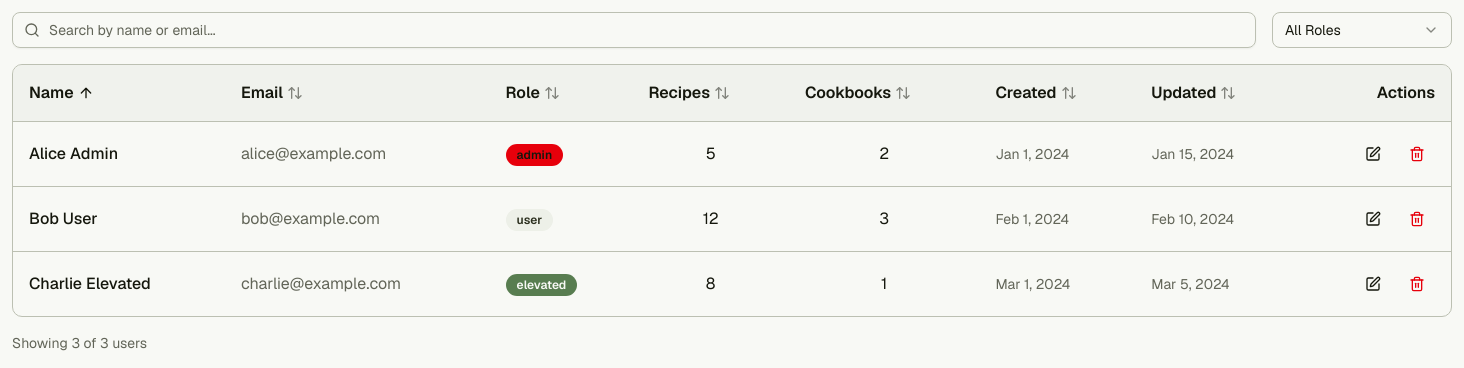
Test: UserListClient › Search functionality › filters users by name
The image size is (1464, 368).
Type "Alice" into the field with placeholder "Search by name or email..." at (634, 30), box [12,12,1256,48]
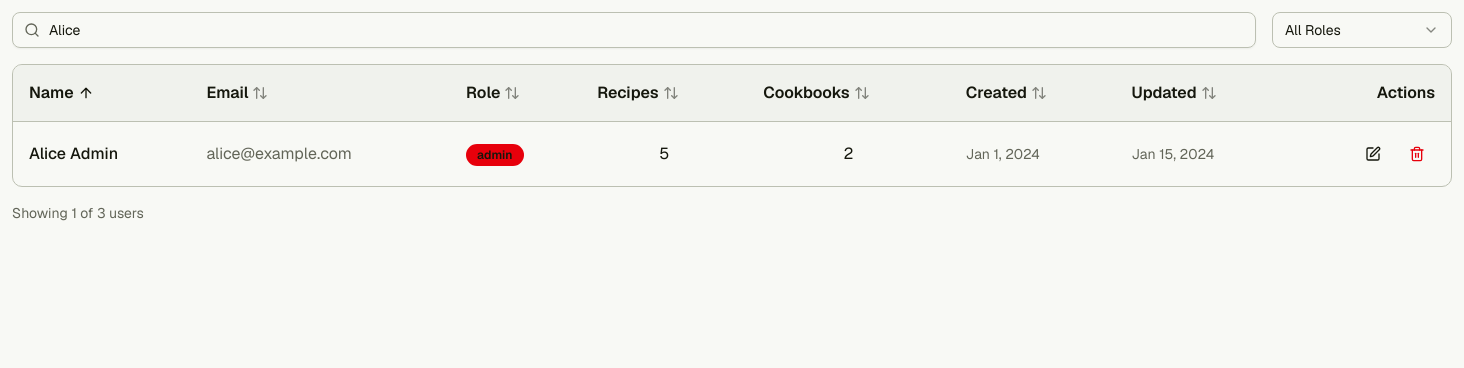
Expected: the text "Alice Admin" is shown, [13,122,190,186]
Expected: the text "Bob User" is gone
Expected: the text "Charlie Elevated" is gone
